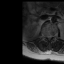CCS_normal: (48, 34, 50, 41)
LFS_stenosis: (52, 34, 54, 38)
LLS_stenosis: (50, 34, 52, 38)
RFS_stenosis: (45, 34, 46, 38)
RLS_stenosis: (46, 34, 48, 39)
